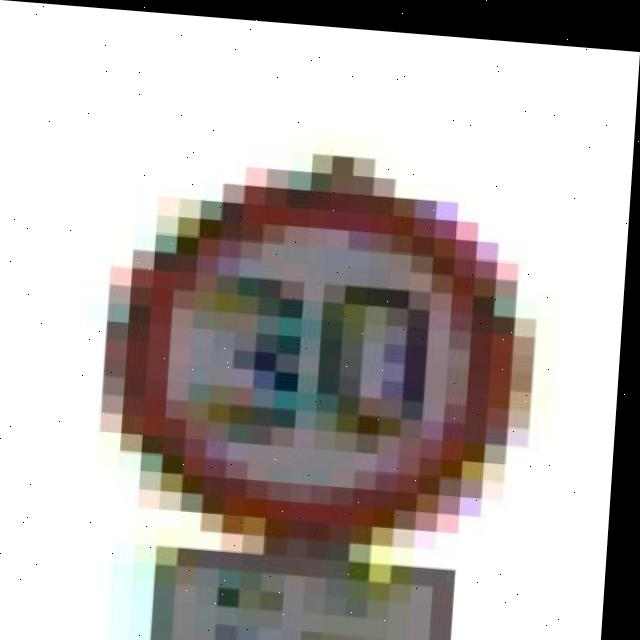Speed limit 30: (98, 134, 545, 557)
